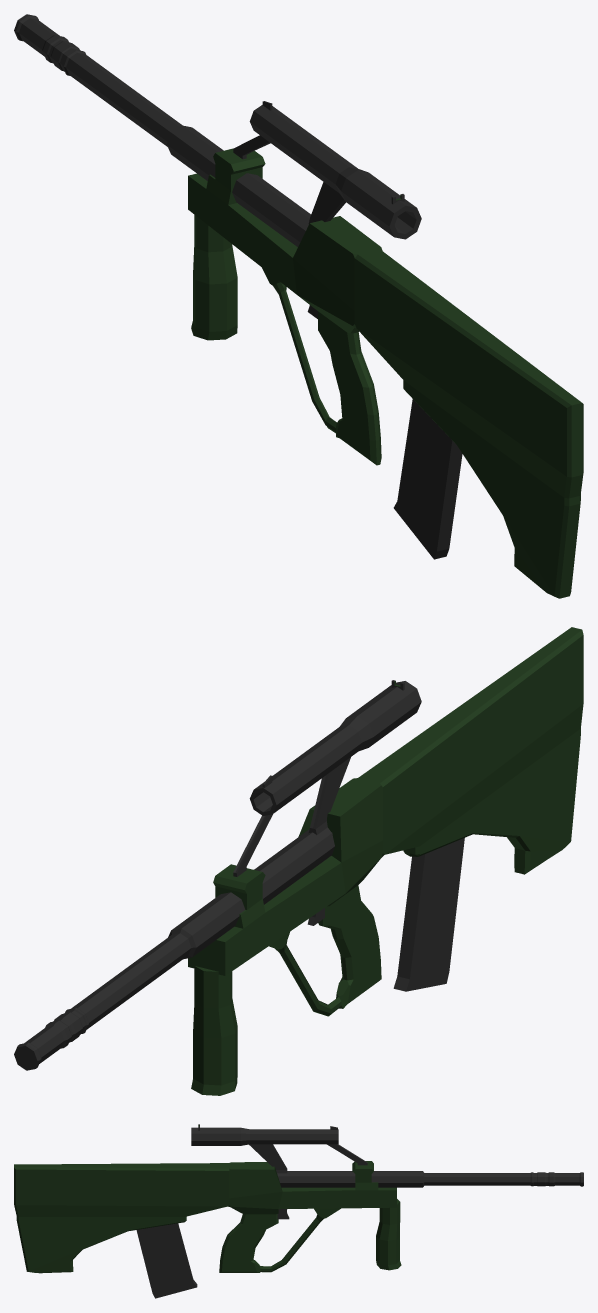
Rendered from Steyr AUG.fbx.
3 views of the same model, one above another, from view 1: azimuth 30°, elevation 25°; view 2: azimuth 150°, elevation 25°; view 3: azimuth 270°, elevation 25° (orthographic). The views are drawn at different scales.
Parts seen in each view (by area): view 1: Body, Magazine; view 2: Body, Magazine; view 3: Body, Magazine.
Boxes of the visible parts, bbox=[...] form: Body: bbox=[14, 14, 583, 598]; Magazine: bbox=[393, 399, 462, 559]; Body: bbox=[14, 627, 583, 1095]; Magazine: bbox=[393, 838, 464, 991]; Body: bbox=[14, 1124, 583, 1273]; Magazine: bbox=[136, 1223, 197, 1298].
Bounding box in the file's own units: 46.31 × 301 × 909.
